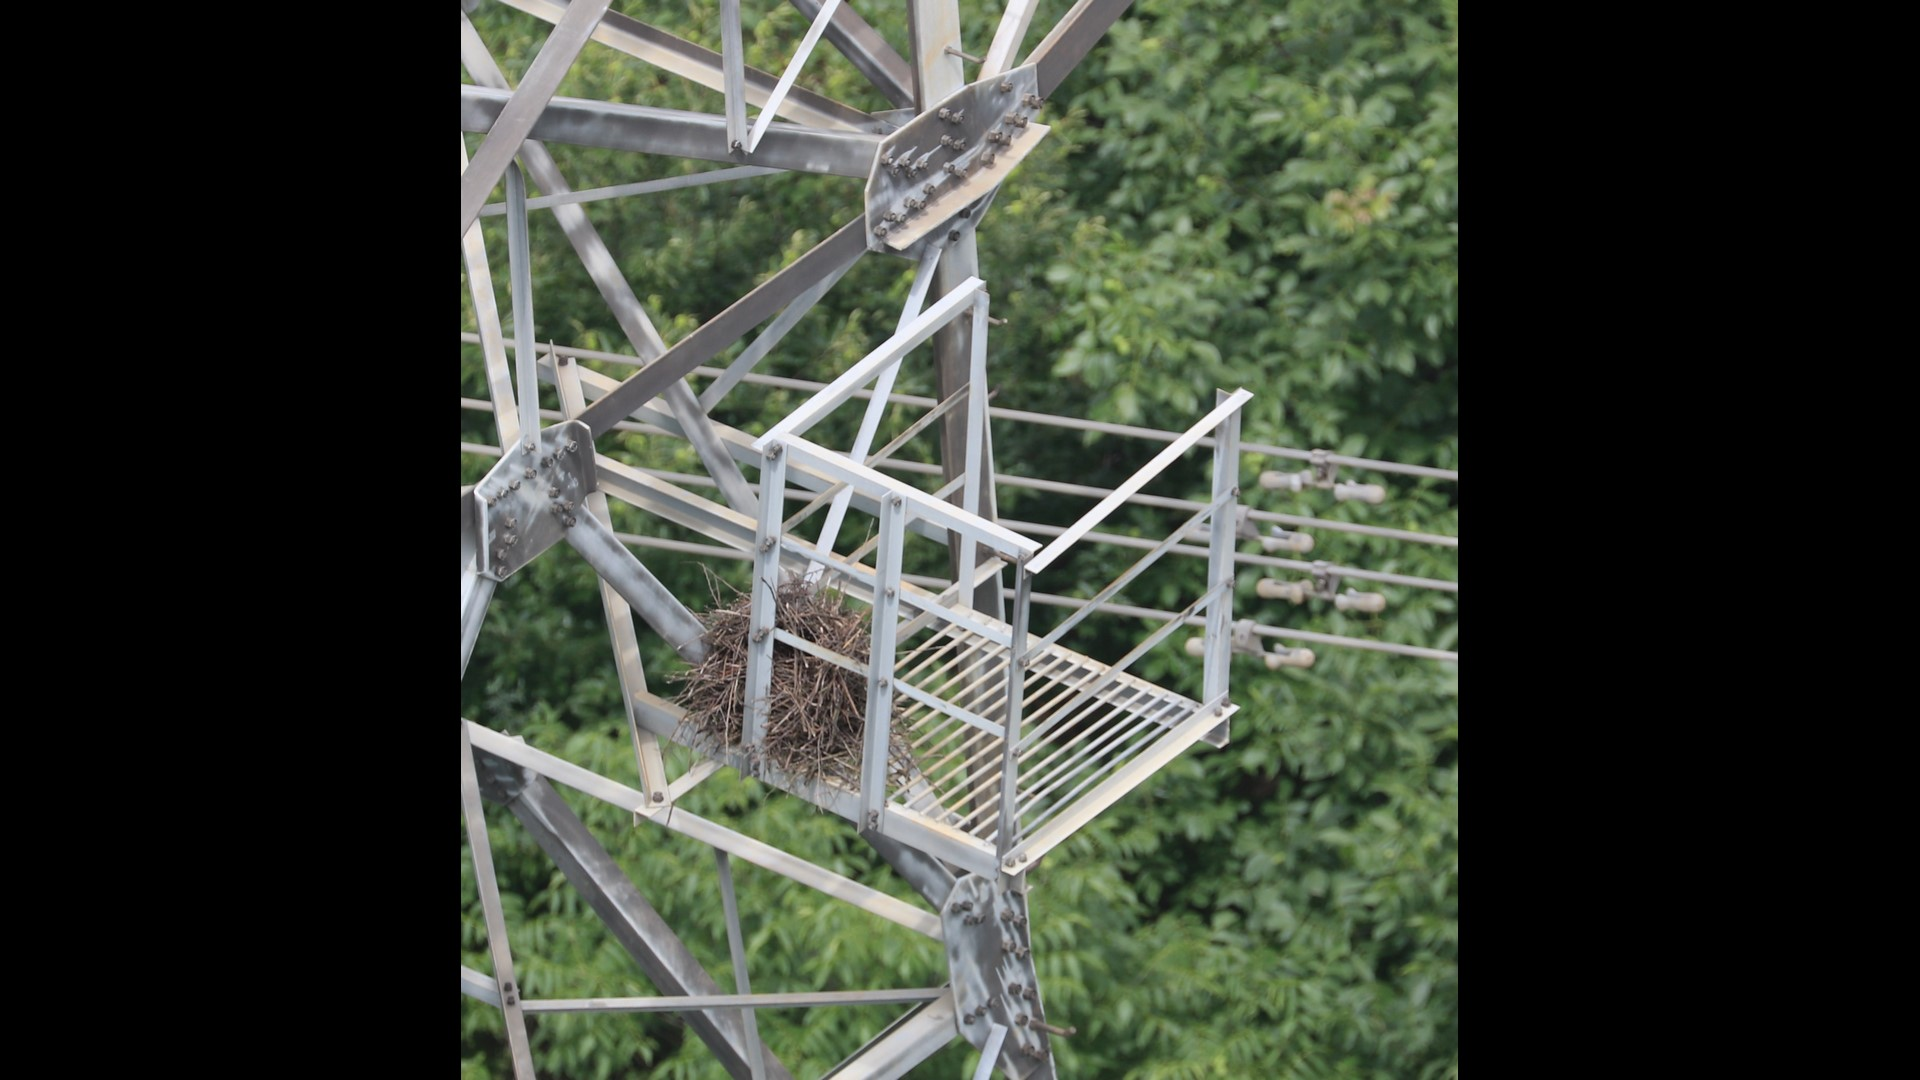niaowo: (673, 579, 910, 798)
